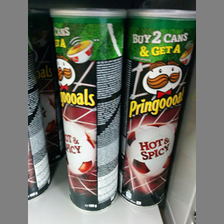chips: (49, 7, 122, 211), (121, 8, 195, 205)
